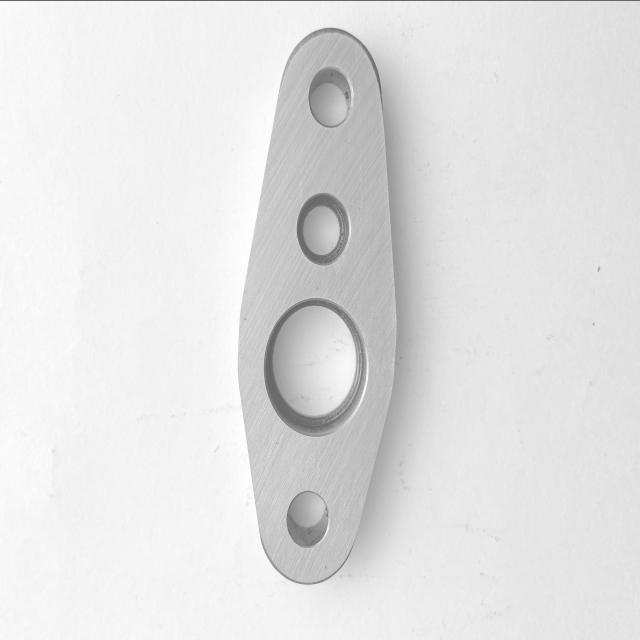chap: (242, 316, 249, 322)
